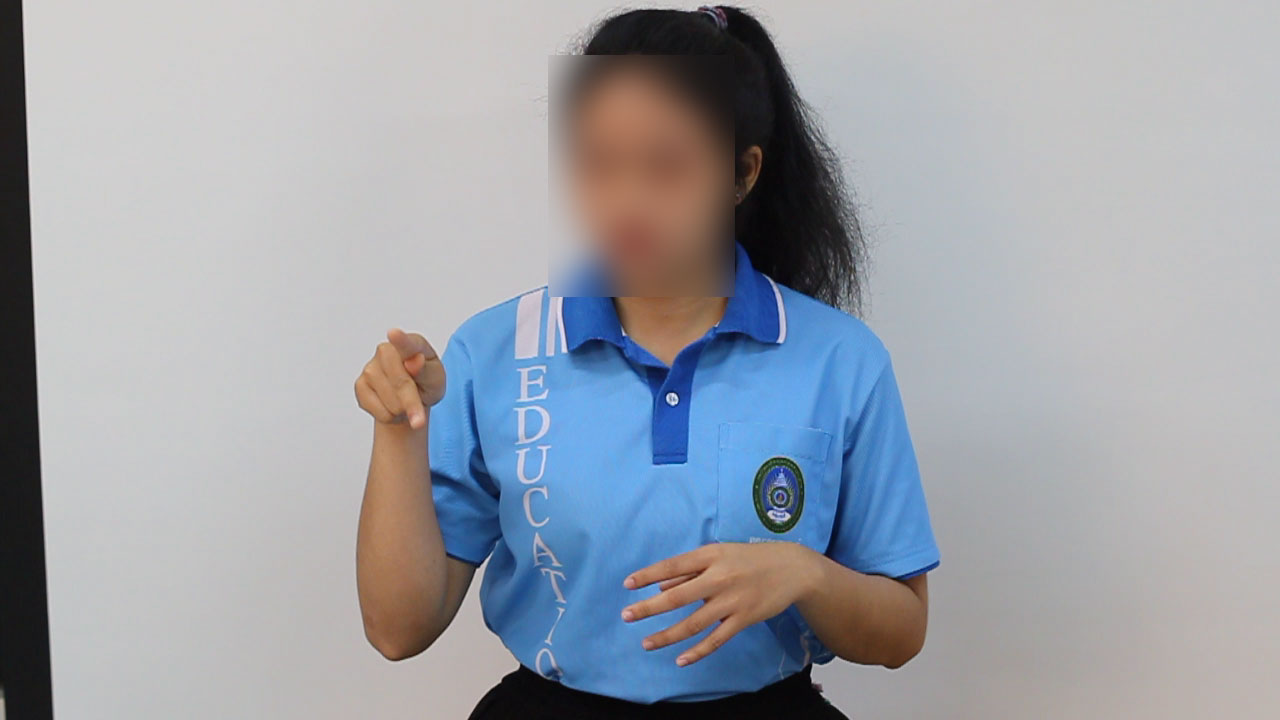por: (330, 321, 460, 454)
